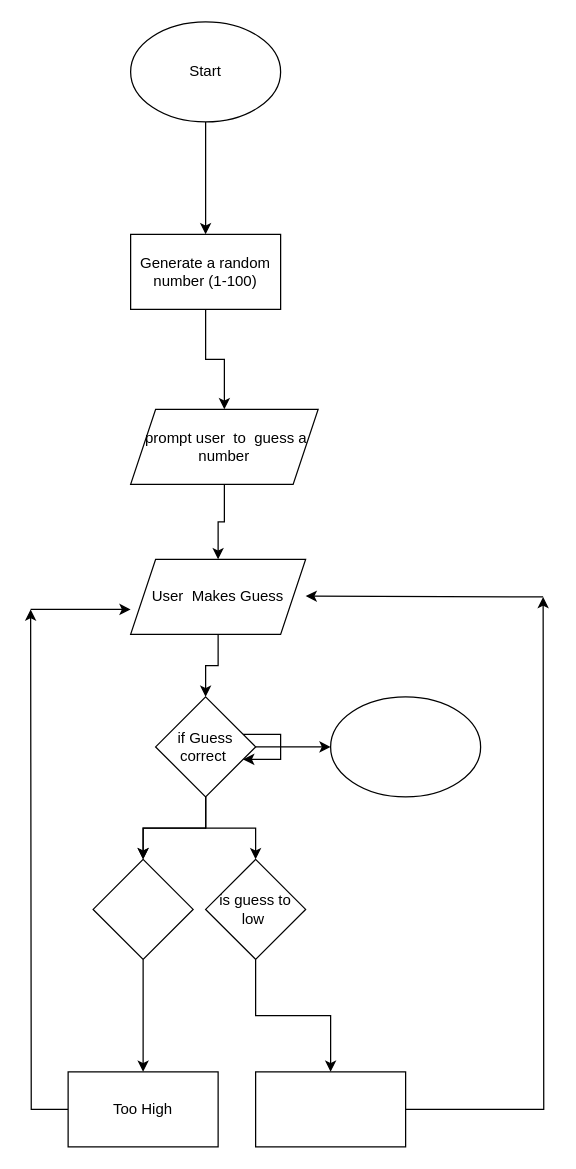
This 576x1169 diagram has some shape labels left out. Each missing label, with the centre of its shape:
"End" goes at (x=405, y=746).
"is guess to high" goes at (x=142, y=908).
"Too LoW" goes at (x=330, y=1109).
